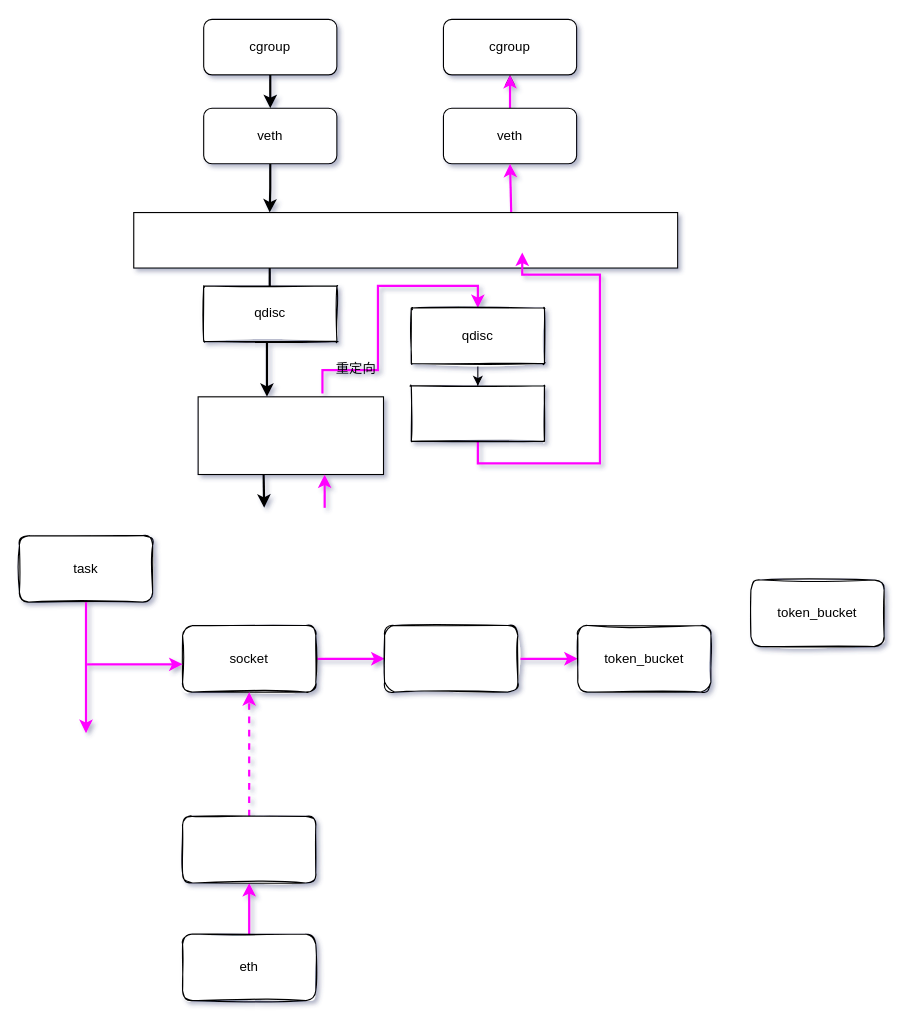
Image size: 910x1027. Some labels were removed from this diagram. The shapes that lost their labels are listed below. From the top down, each one's centre as x and y in pixels, then its label:
point (405, 239): bridge
point (477, 413): ifb
point (290, 435): ethx
point (451, 658): cgroup_cls_state
point (248, 849): netfilter
